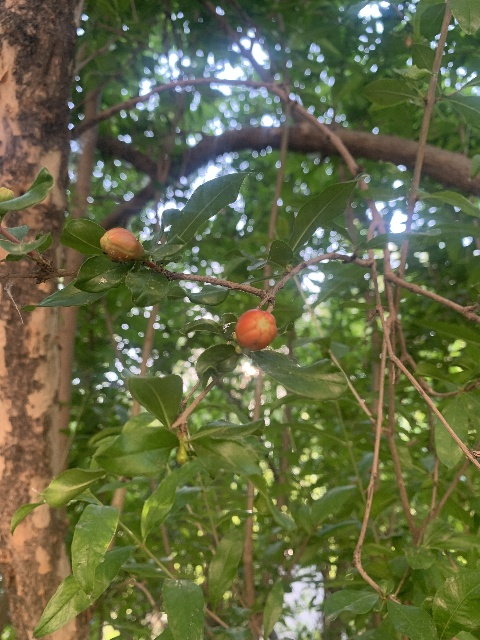bud: (235, 309, 276, 351), (100, 227, 143, 261)
